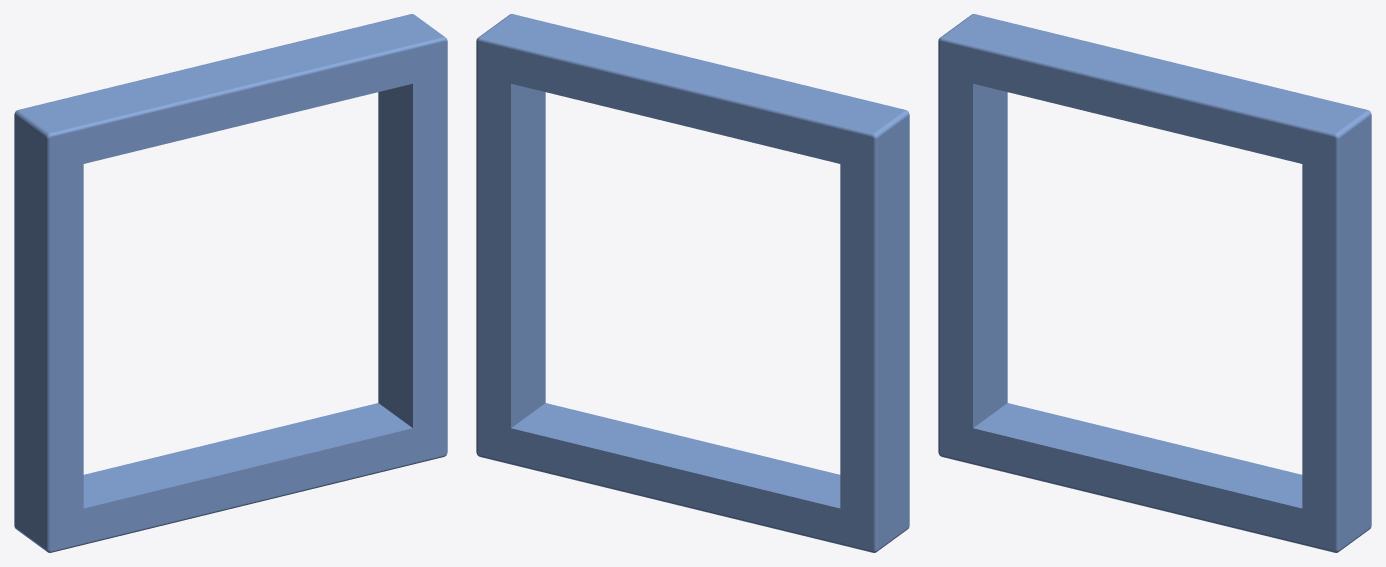
3 renders of one model, left to right at view 1: azimuth 30°, elevation 25°; view 2: azimuth 150°, elevation 25°; view 3: azimuth 330°, elevation 25°, orthographic.
Visible parts, largest first — view 1: Bumpers; view 2: Bumpers; view 3: Bumpers.
Boxes of the visible parts, left/top/right/bottom form: Bumpers: left=14, top=14, right=447, bottom=552; Bumpers: left=476, top=14, right=909, bottom=552; Bumpers: left=938, top=14, right=1371, bottom=552.
Size of the model in its own units: 0.8509 by 0.8509 by 0.127.
